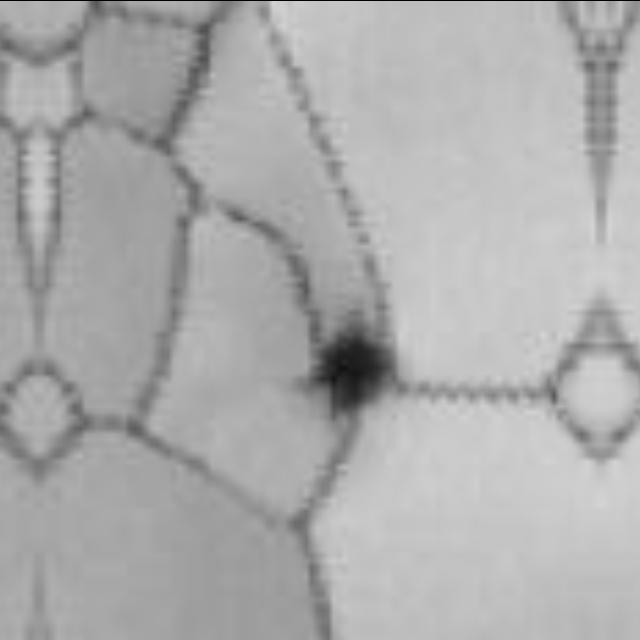good_void: (299, 311, 398, 421)
